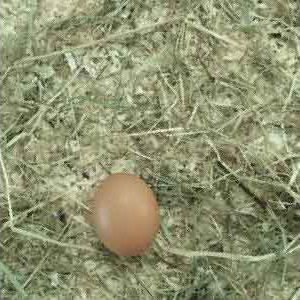egg: (93, 173, 160, 257)
